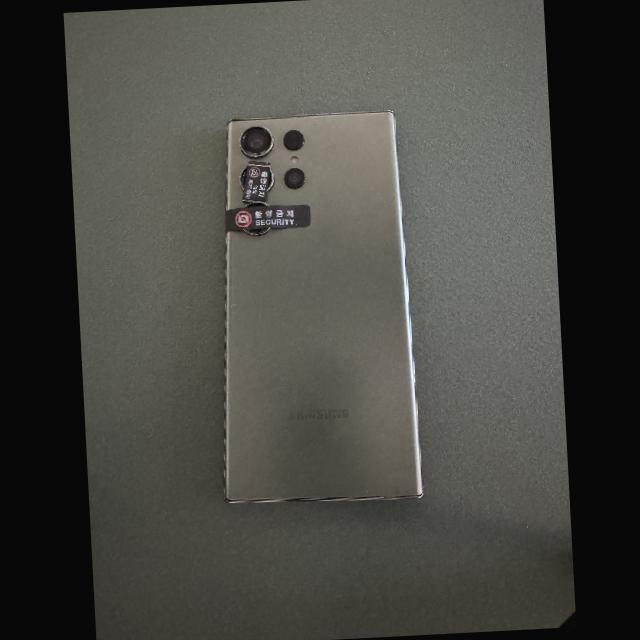lens: (241, 126, 273, 156), (284, 131, 305, 149), (267, 168, 273, 191), (245, 230, 268, 234)
phone: (225, 111, 423, 503)
sticker: (226, 205, 310, 233), (242, 161, 269, 205)
